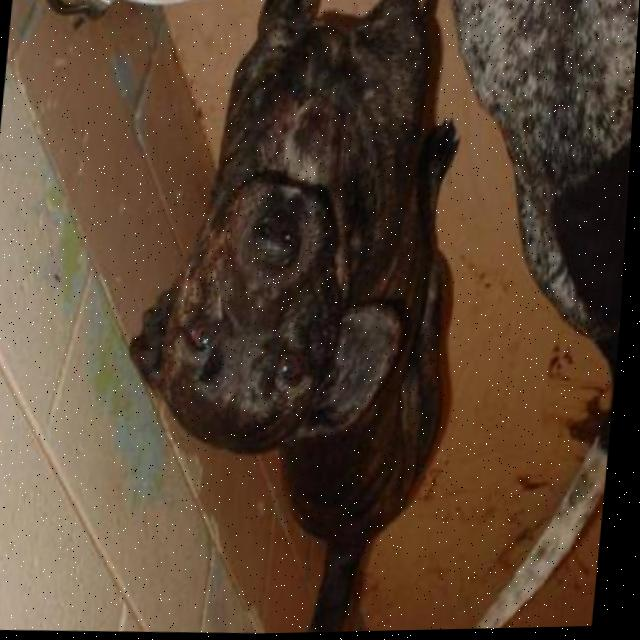dogs: (125, 0, 497, 637)
